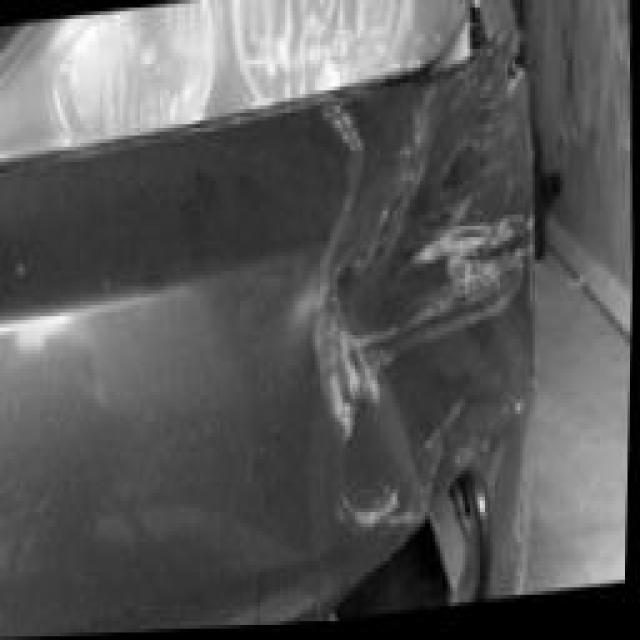Bumper: (138, 83, 567, 606)
Fender: (440, 0, 525, 90)
